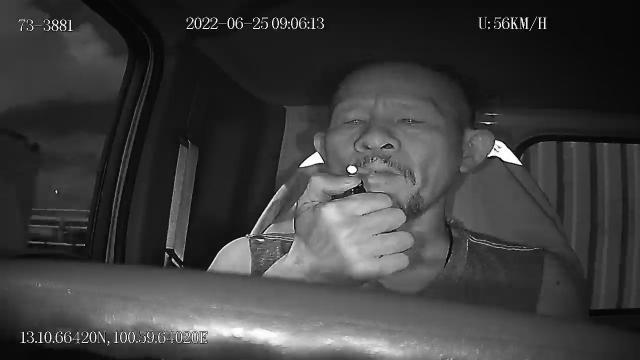SafeDriving: (390, 105, 437, 135), (336, 106, 372, 136)
Smoking: (347, 164, 378, 176)
